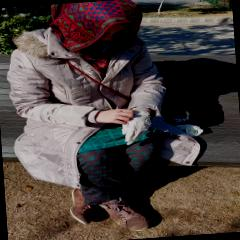gloved: (120, 109, 152, 146)
not-gloved: (94, 108, 134, 128)
